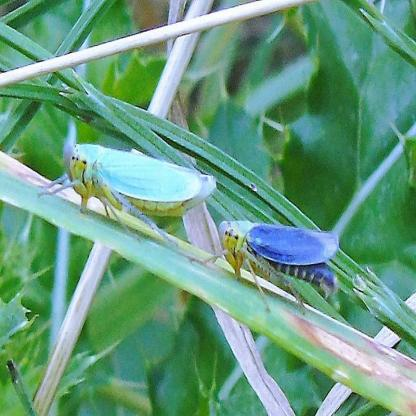Green-Leafhopper: (39, 140, 217, 238), (203, 217, 342, 318)
